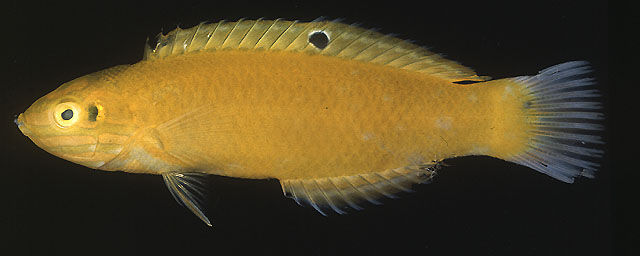fish: (15, 14, 604, 226)
